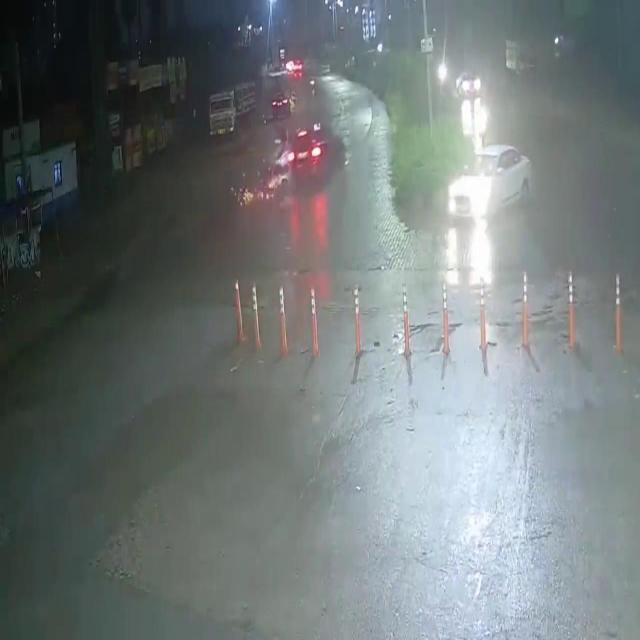accident: (230, 118, 349, 210)
